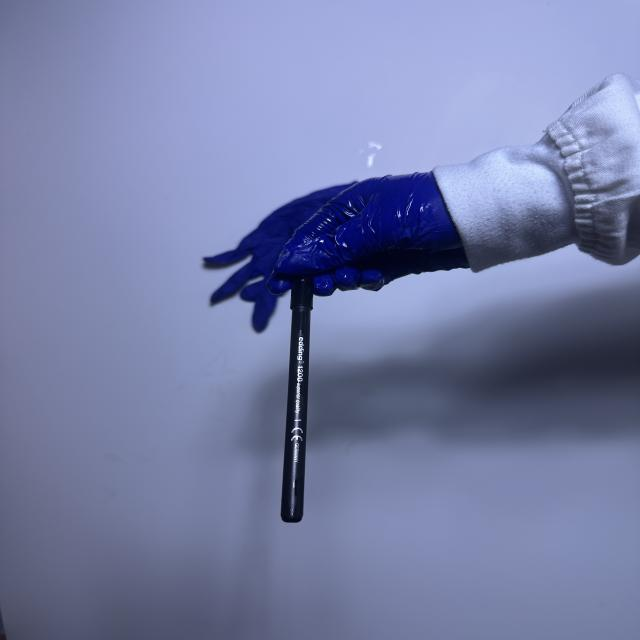gloves_contaminated: (267, 172, 468, 296)
